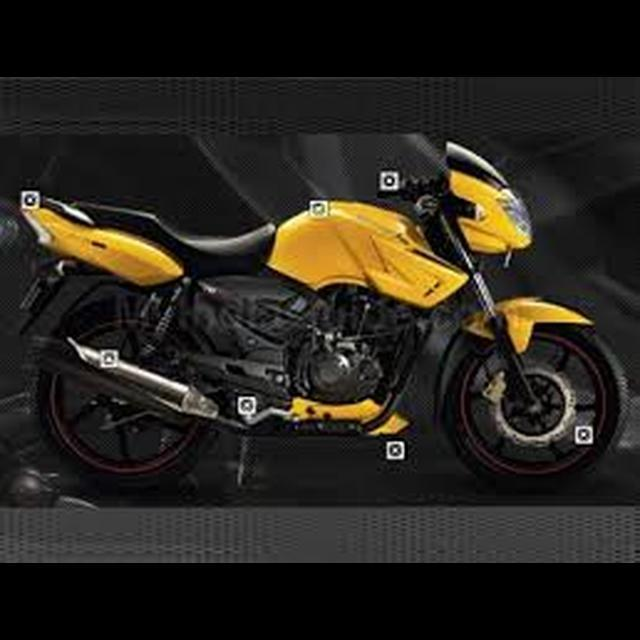motorcycle: (1, 123, 638, 504)
